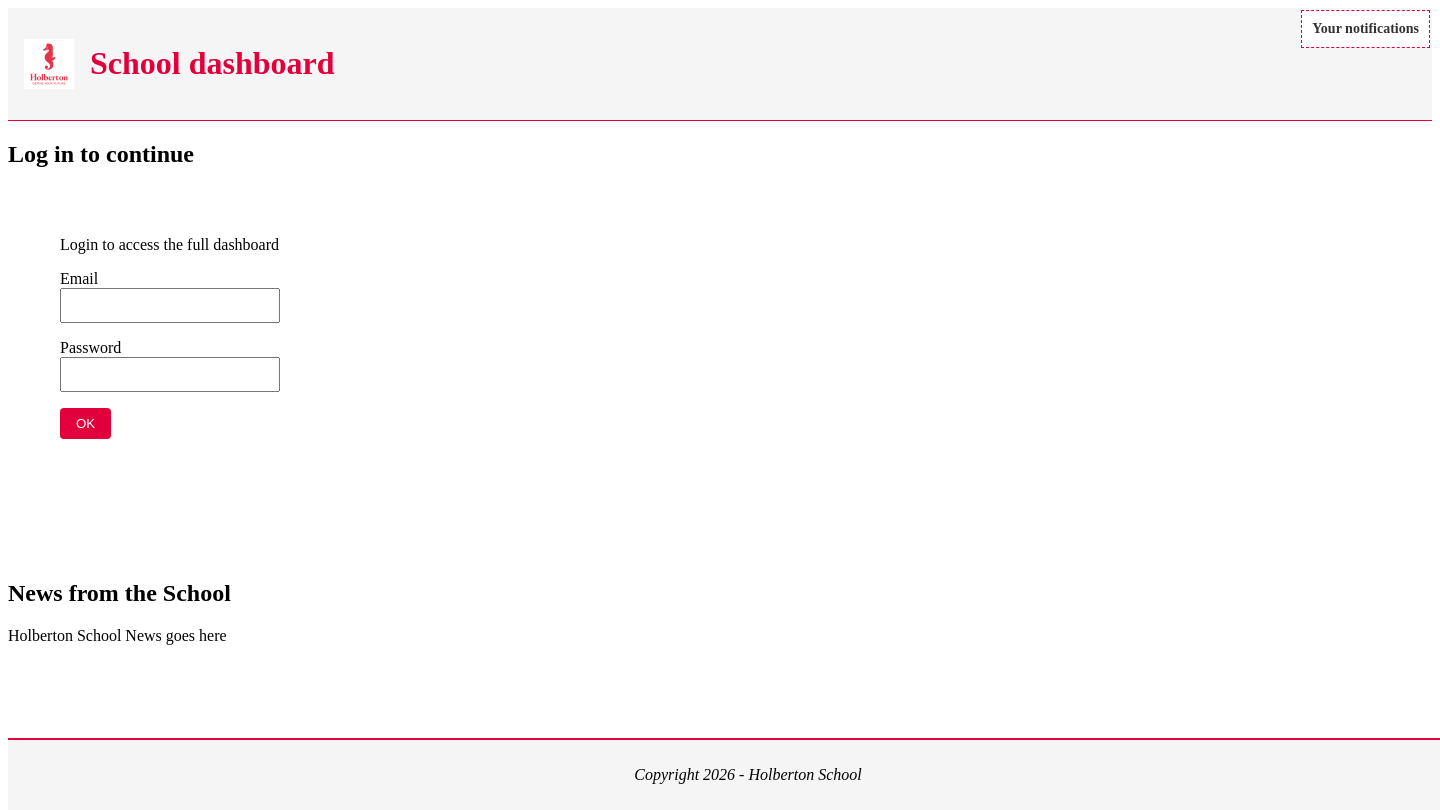
Test: App component › clicking close button hides the drawer
# Open drawer first
What coordinates should you click on to do the following:
click the text "Your notifications"
I would click on:
 (1366, 29)
Its box is [1312,21,1419,37].
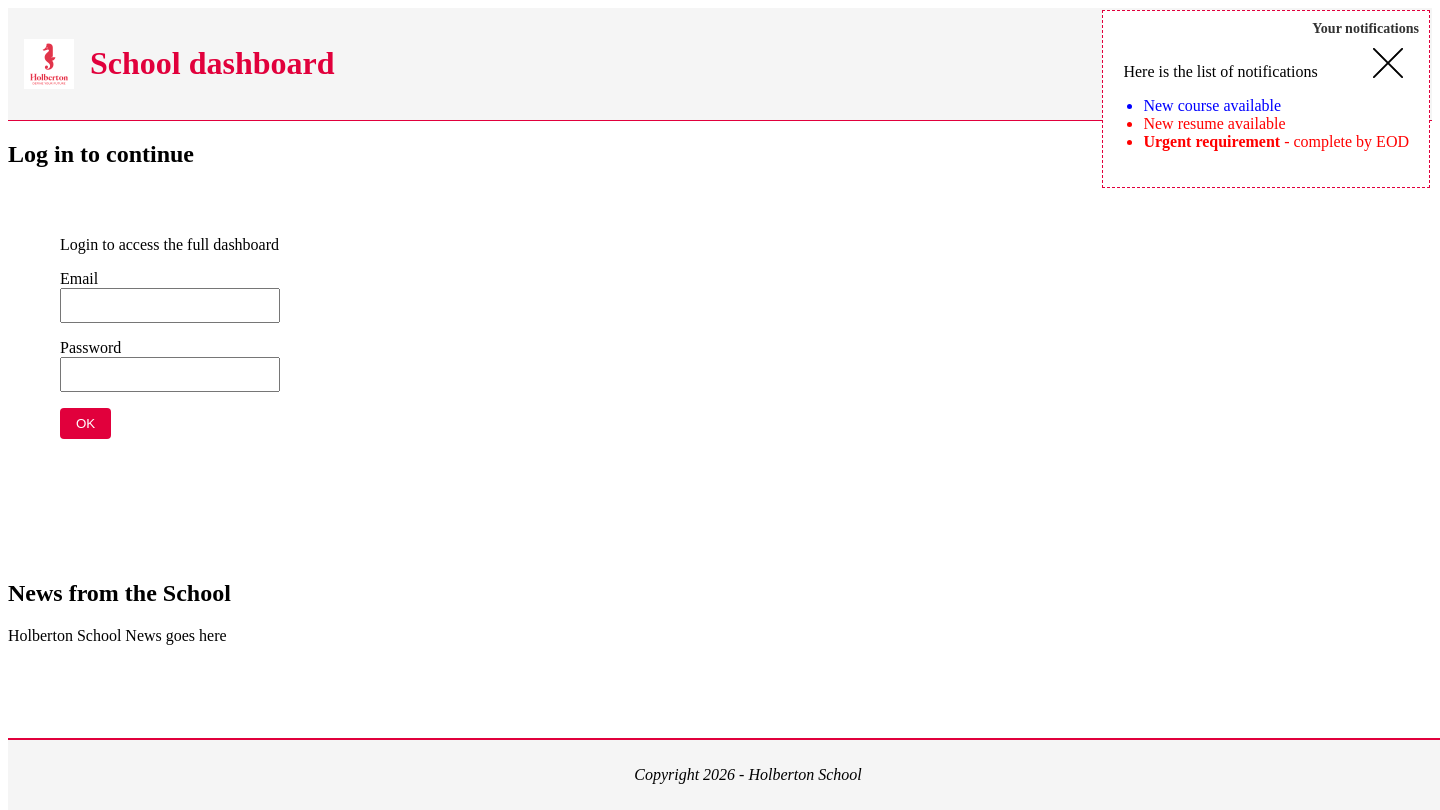
Expected: the text "Here is the list of notifications" is shown, [1123,63,1318,80]
# Close it
What coordinates should you click on to do the following:
click the button named "Close"
I would click on:
 (1388, 64)
Its box is [1367,47,1409,82].
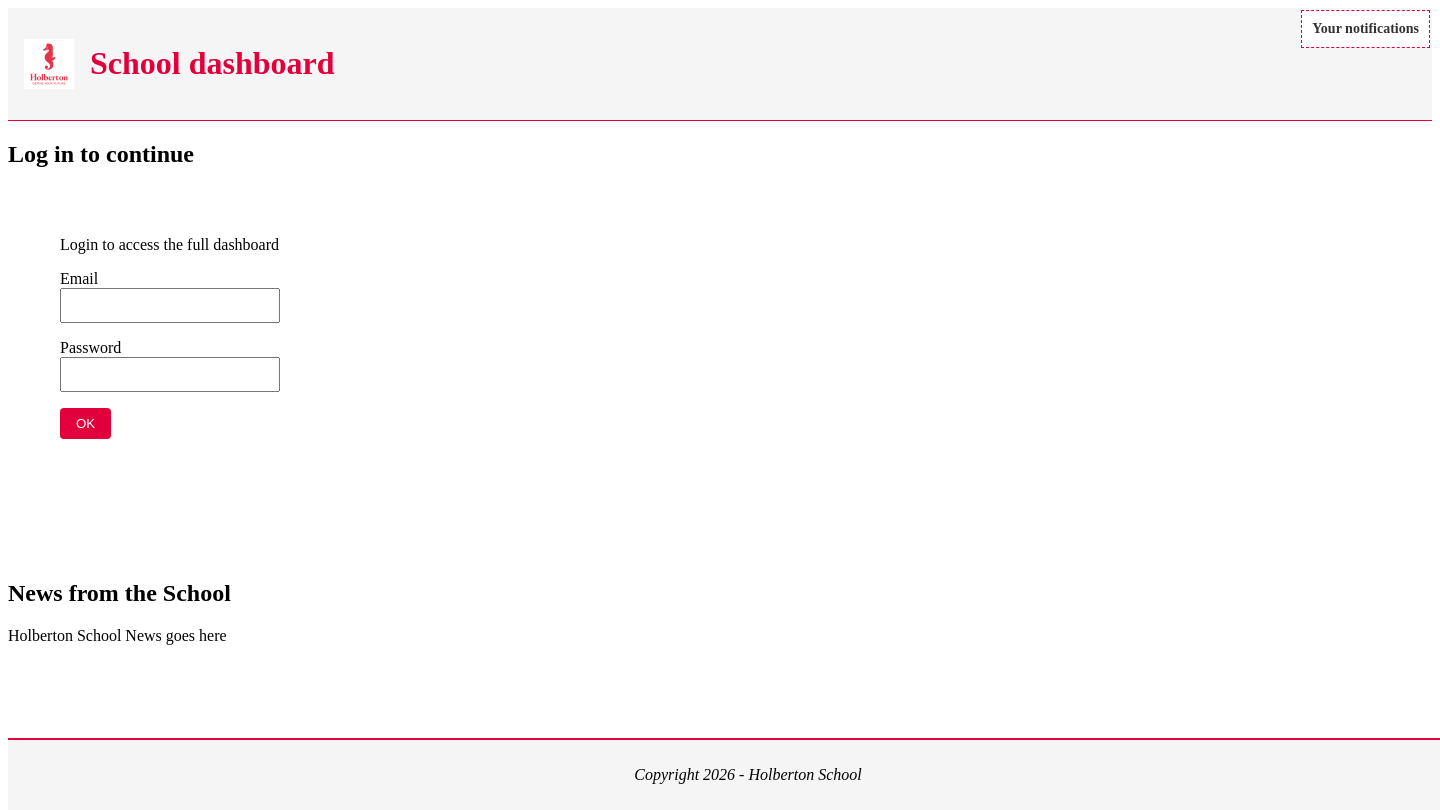
Expected: the text "Here is the list of notifications" is gone
